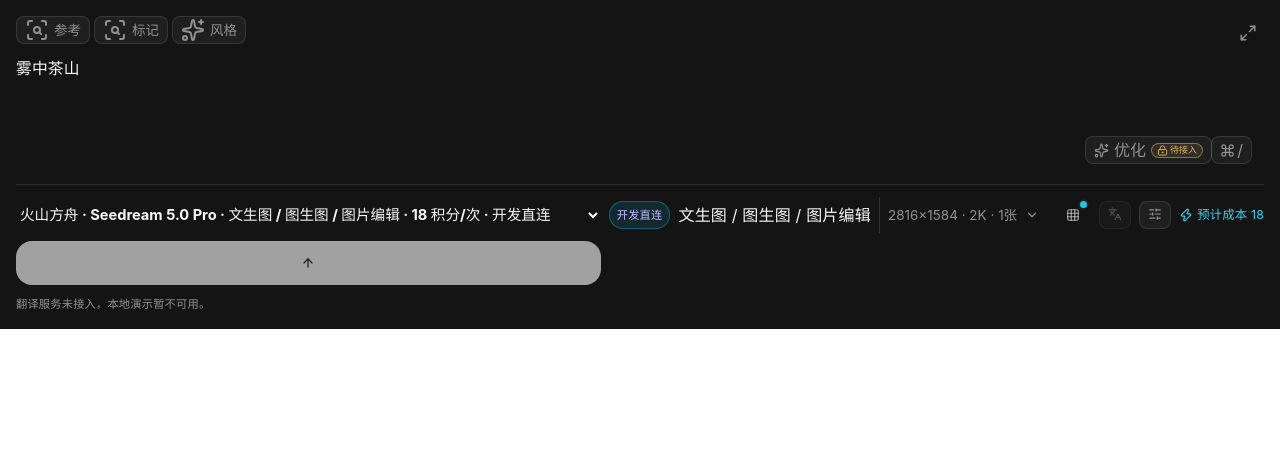
Test case: opens and safely exits the local element marking mode
This screenshot has width=1280, height=464.
Click the button "标记". click: (131, 30)
box: x1=94 y1=16 x2=168 y2=44
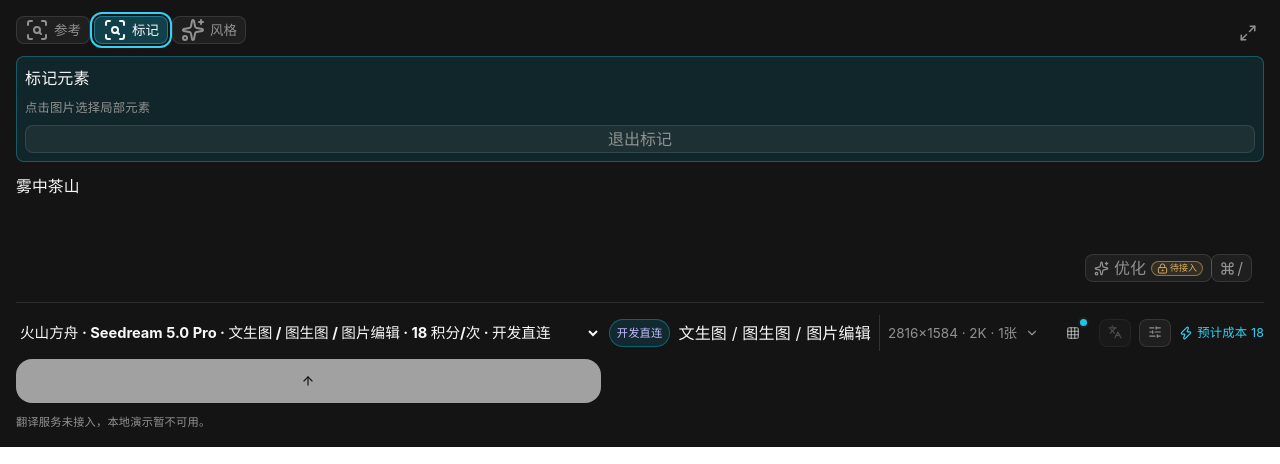
Expected: the element "标记元素" shows "点击图片选择局部元素", x1=25 y1=100 x2=150 y2=115
Press Escape
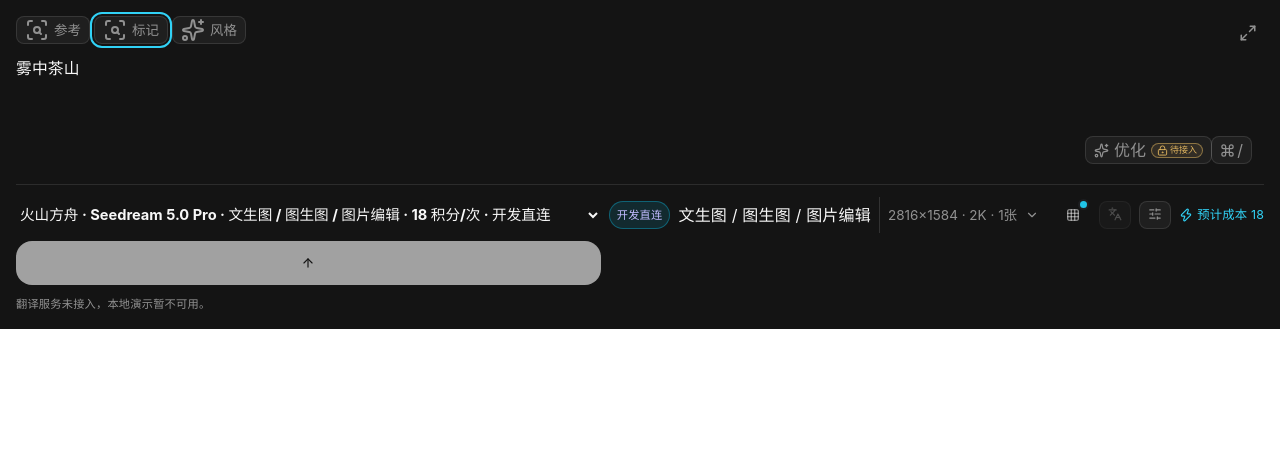
Expected: the text "标记元素" is gone
